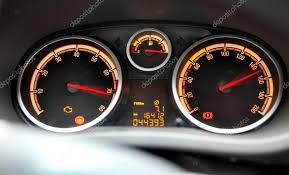Digital_Meter: (126, 93, 169, 129)
